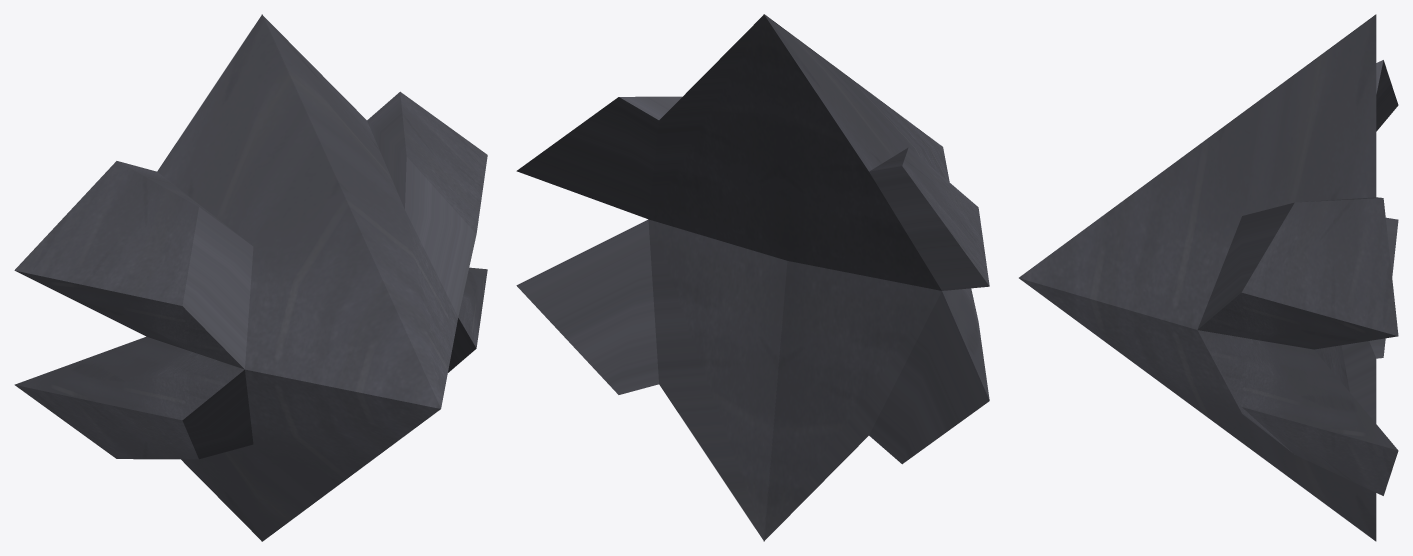
File: hook.fbx
3 renders of one model, left to right at view 1: azimuth 30°, elevation 25°; view 2: azimuth 150°, elevation 25°; view 3: azimuth 270°, elevation 25°, orthographic.
Parts seen in each view (by area): view 1: hook; view 2: hook; view 3: hook.
Part boxes in pixels (box(x1,y1,x2,y2)): hook: box(14, 14, 487, 541); hook: box(516, 14, 989, 541); hook: box(1019, 14, 1398, 541).
Bounding box in the file's own units: 177 × 189 × 123.
